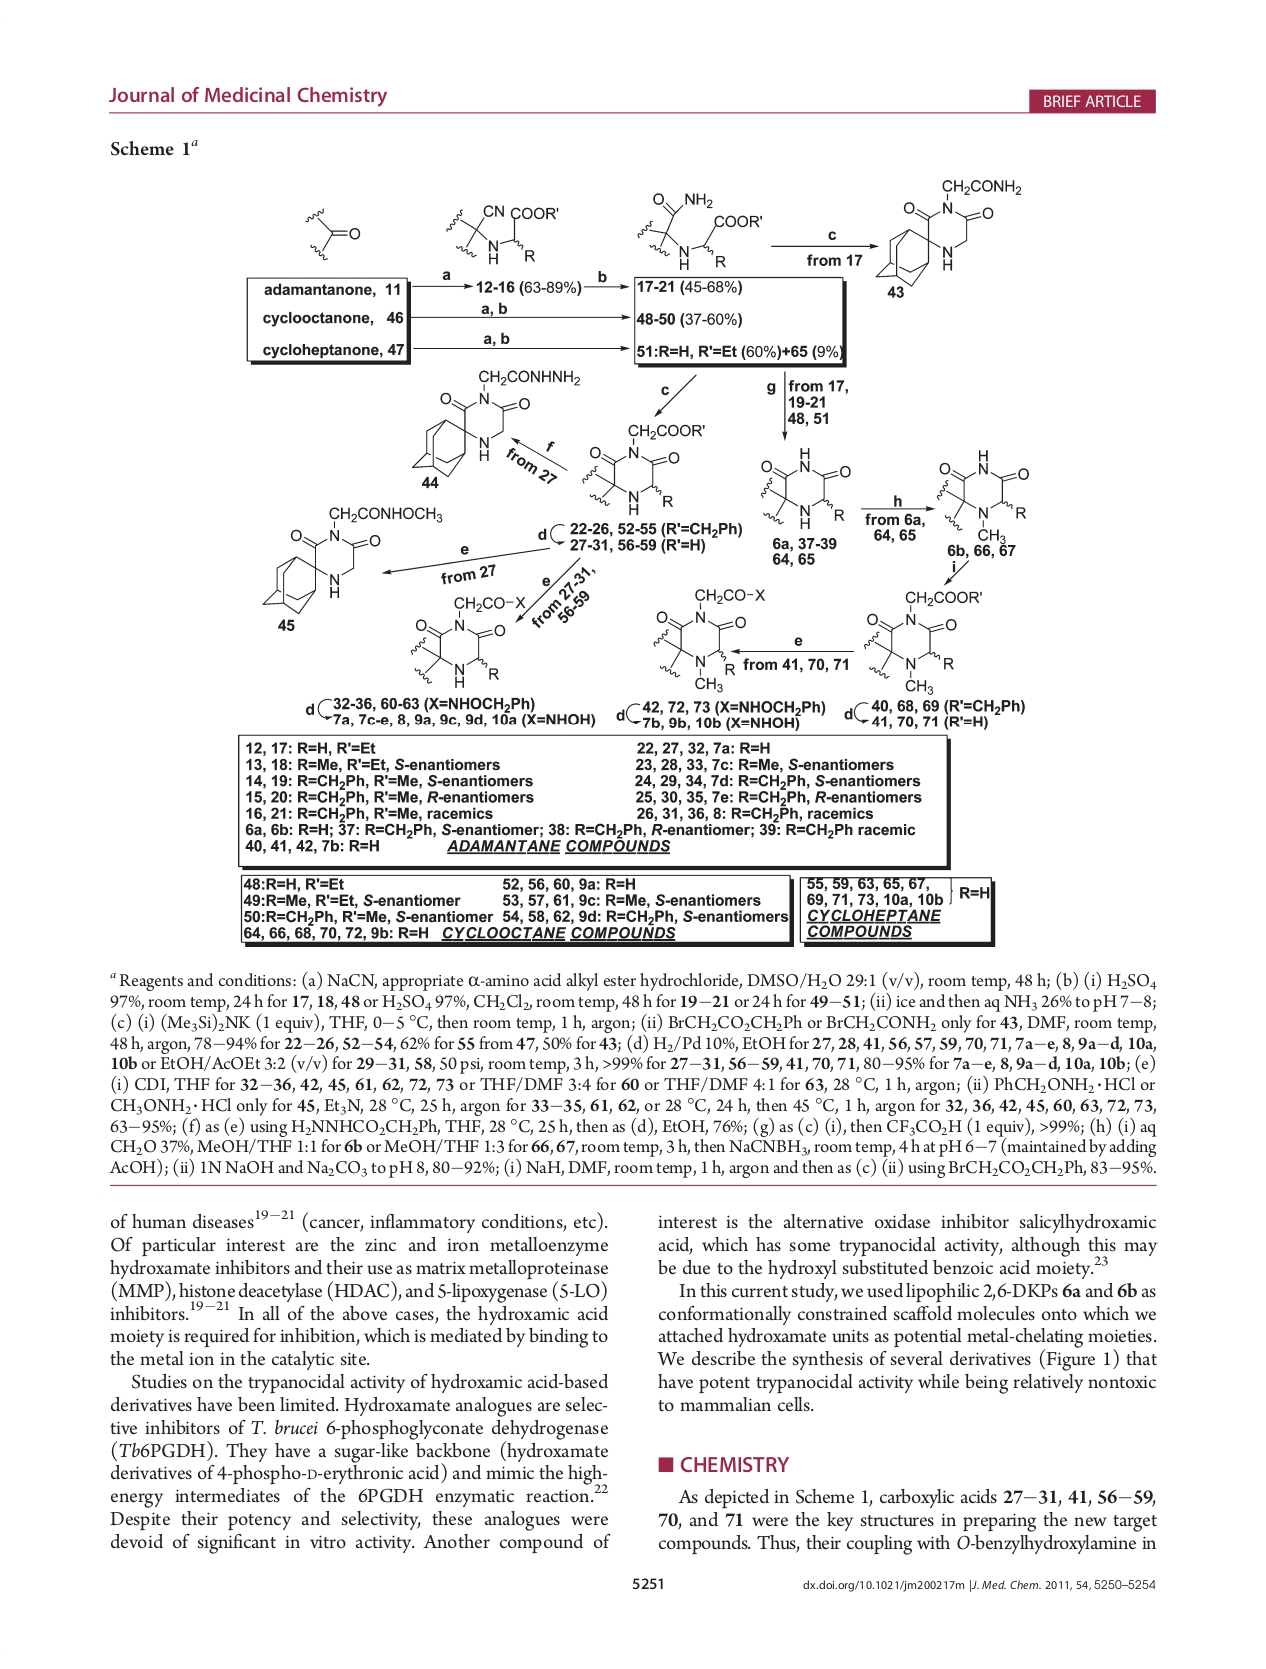exist_molecular: (259, 501, 443, 617), (408, 367, 582, 479), (874, 173, 1023, 289), (649, 582, 769, 696), (860, 586, 984, 696), (578, 419, 705, 516), (406, 592, 527, 688), (632, 190, 766, 271), (935, 447, 1031, 543), (755, 446, 854, 533), (442, 203, 561, 269), (297, 207, 359, 263)
